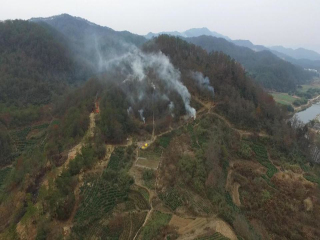smoke: (97, 45, 217, 125)
